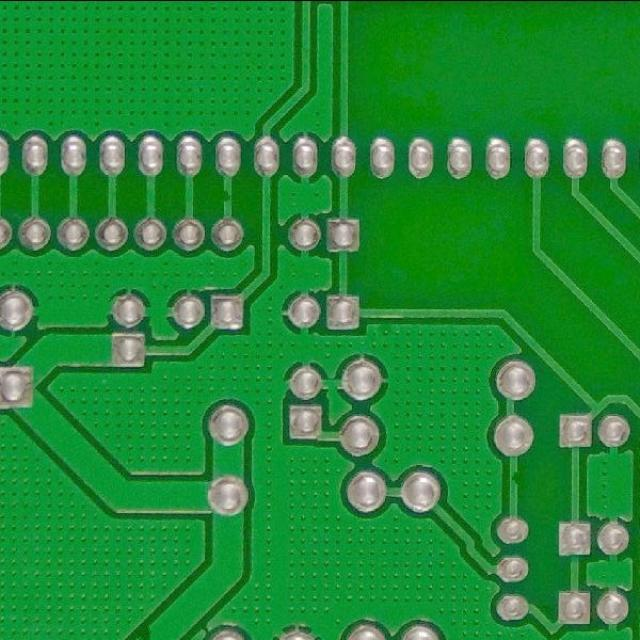mouse_bite: (123, 615, 161, 639), (216, 181, 241, 208), (504, 466, 526, 490)
